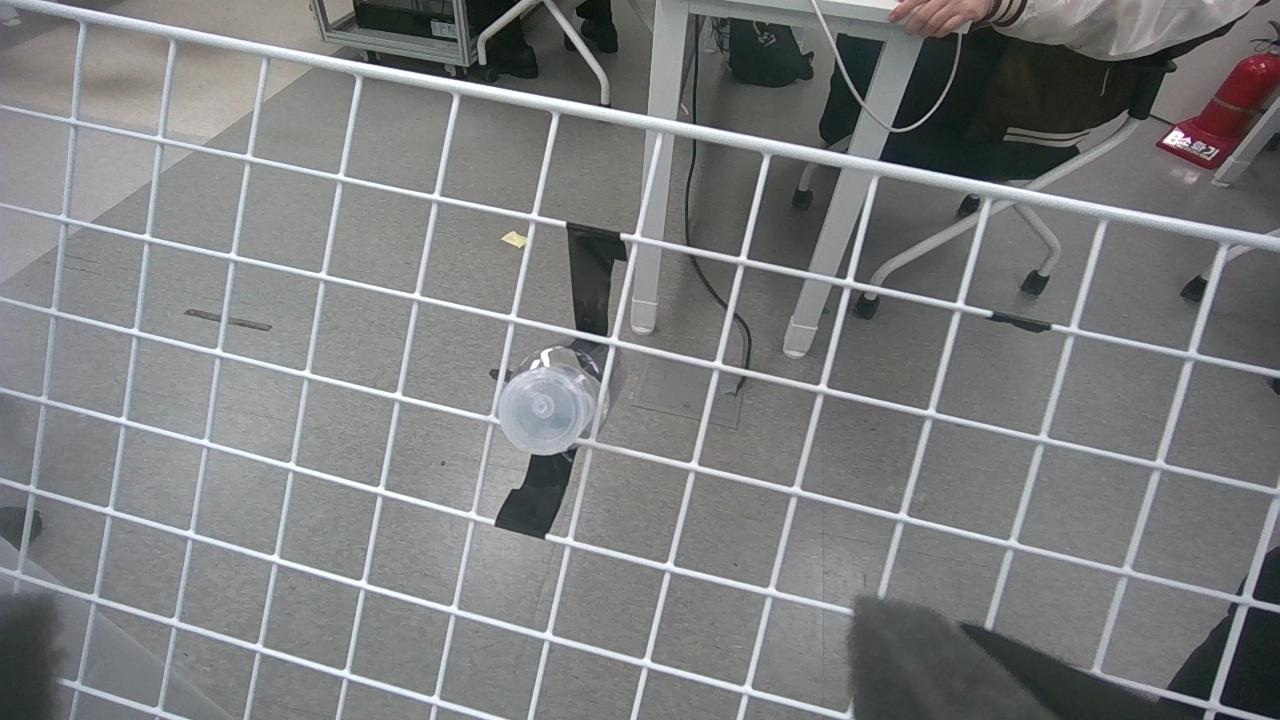Cap: (497, 370, 585, 458)
